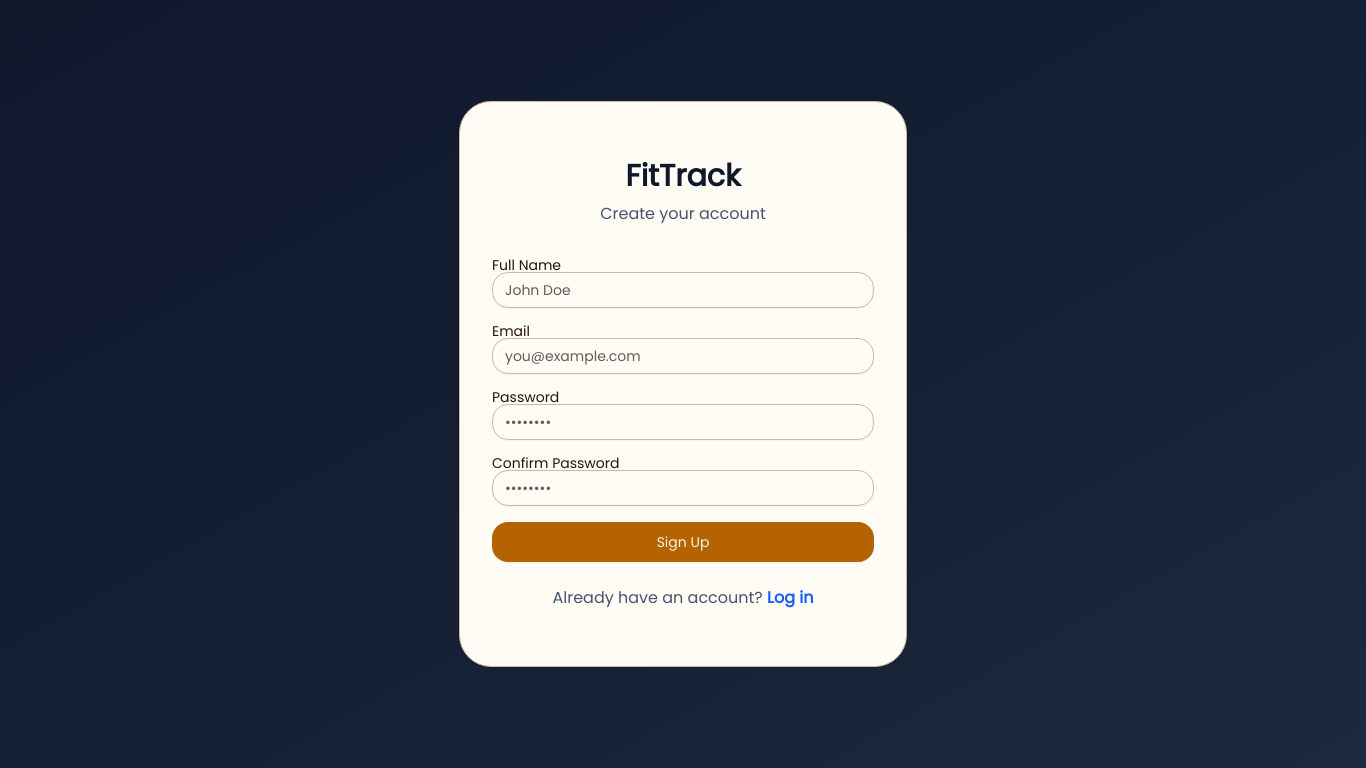
SignupView › displays error when password is too short
In the field labelled "Full Name": (683, 290) 492,272 -> 874,308, type "Test User"
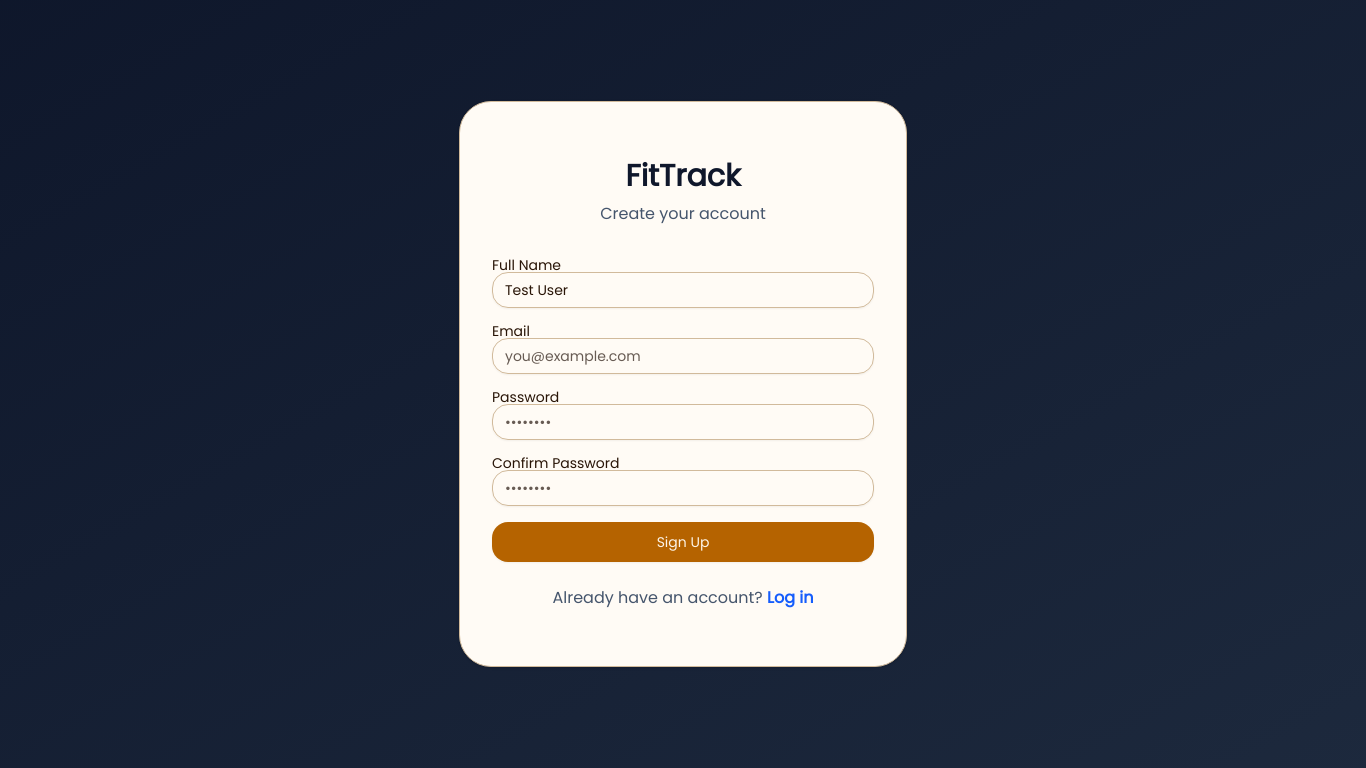
In the field labelled "Email": (683, 356) 492,338 -> 874,374, type "test@example.com"
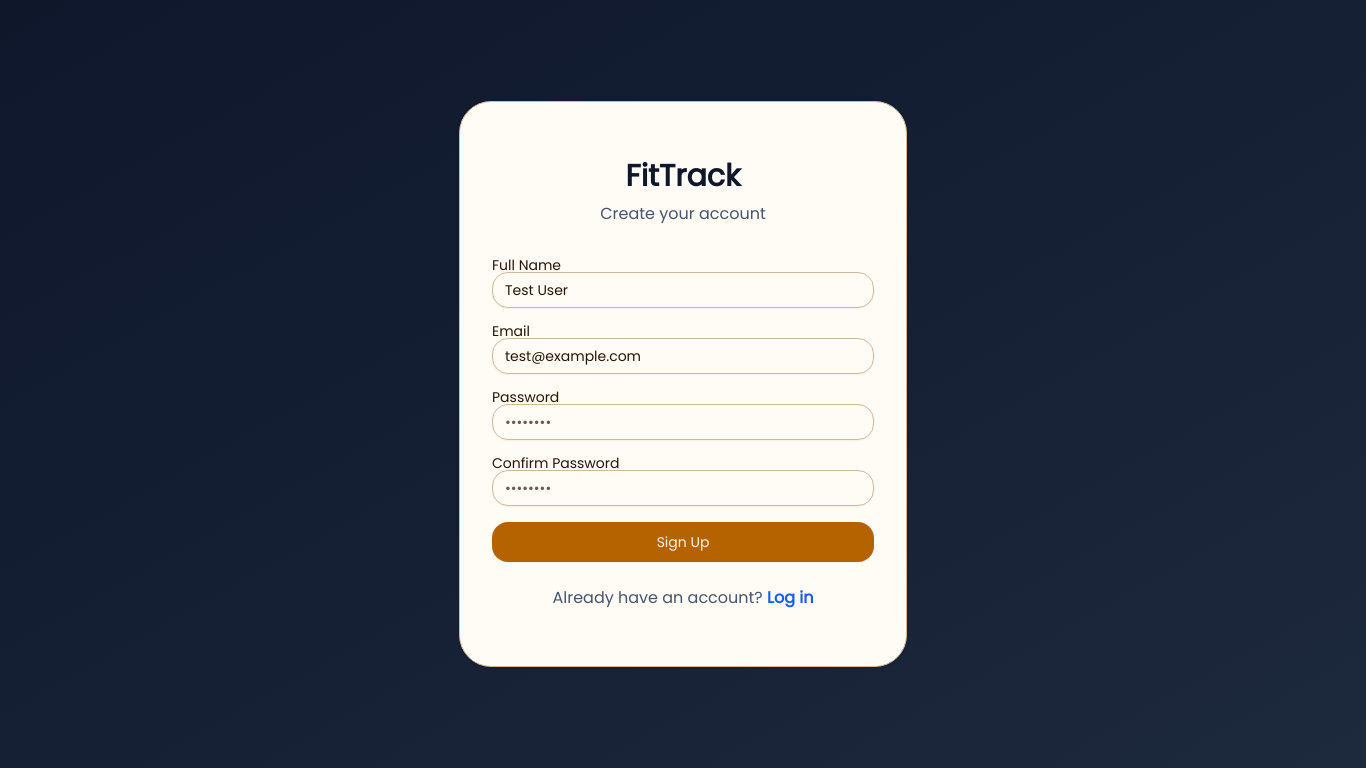
In the password field labelled "Password": (683, 422) 492,404 -> 874,440, type "short"
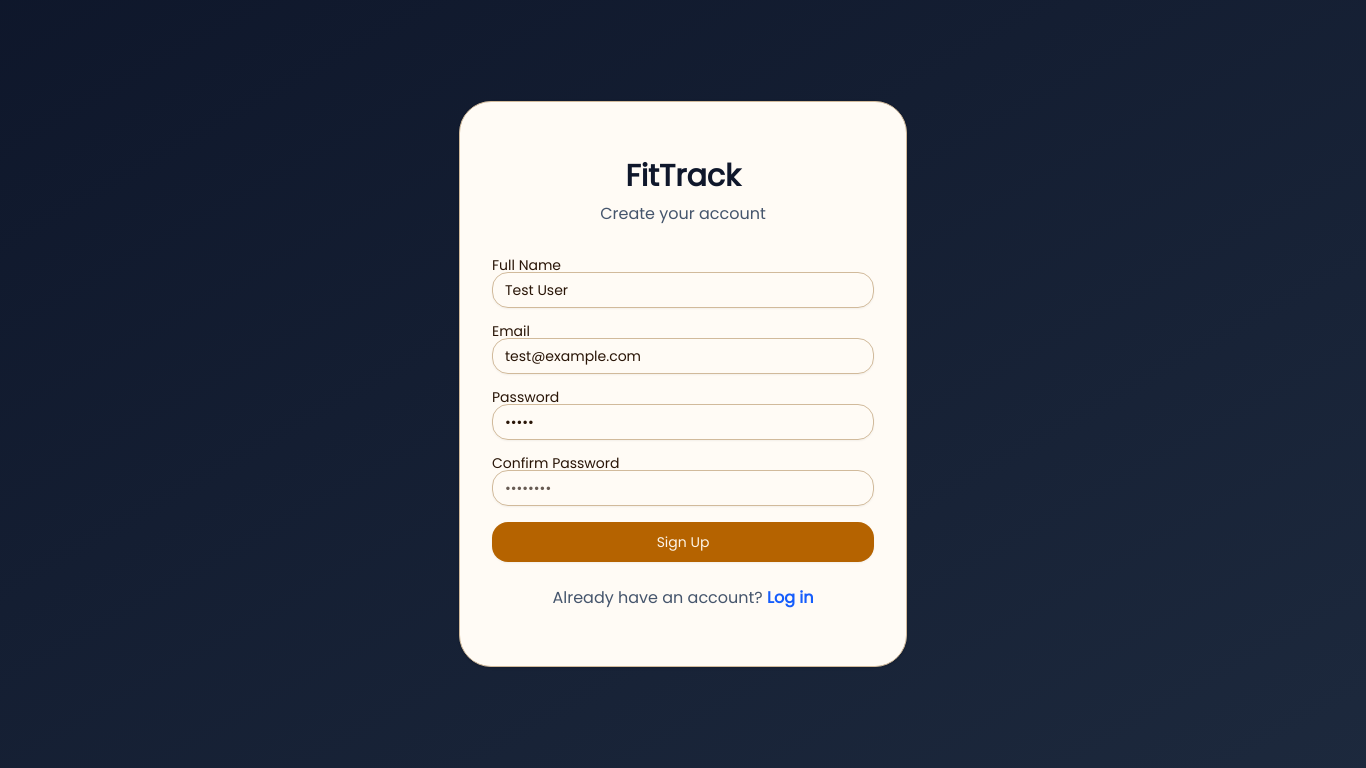
In the password field labelled "Confirm Password": (683, 488) 492,470 -> 874,506, type "short"
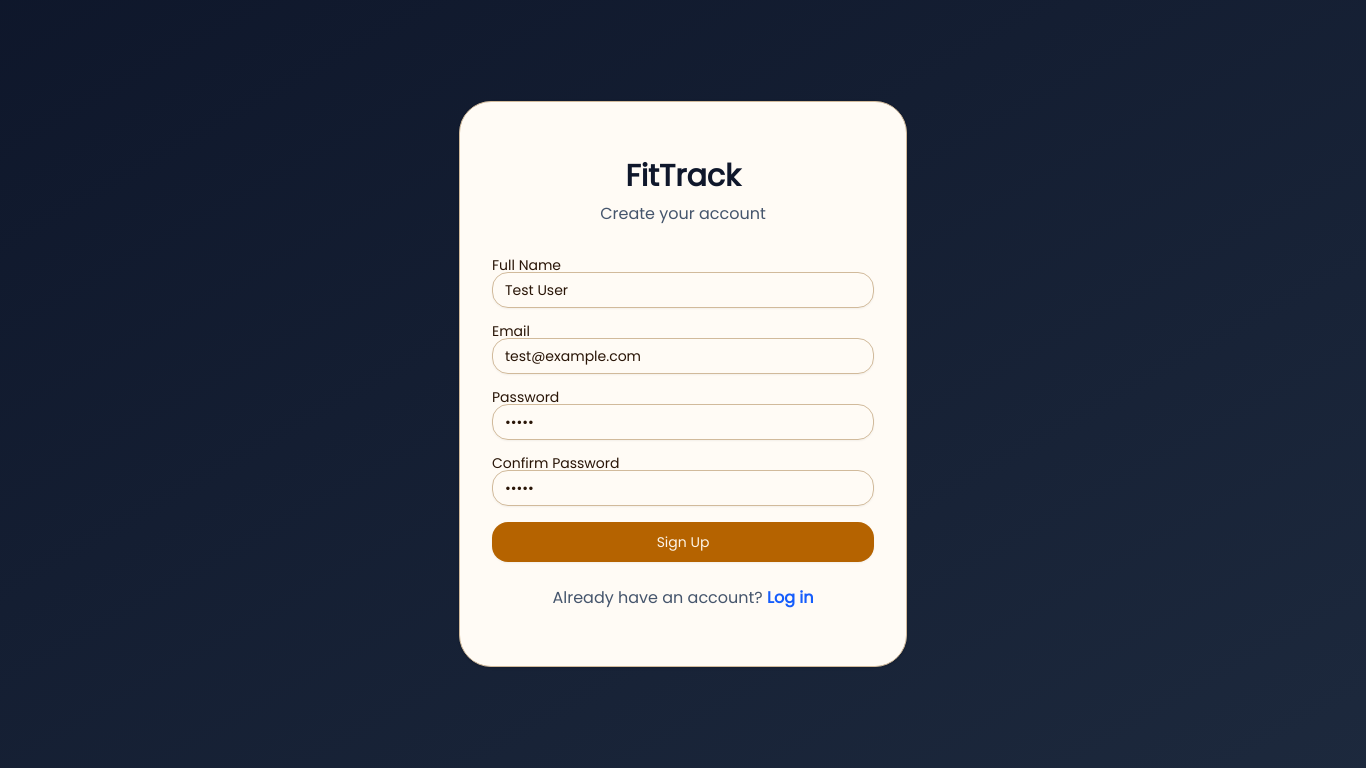
Click the button "Sign Up": (683, 542) 492,522 -> 874,562
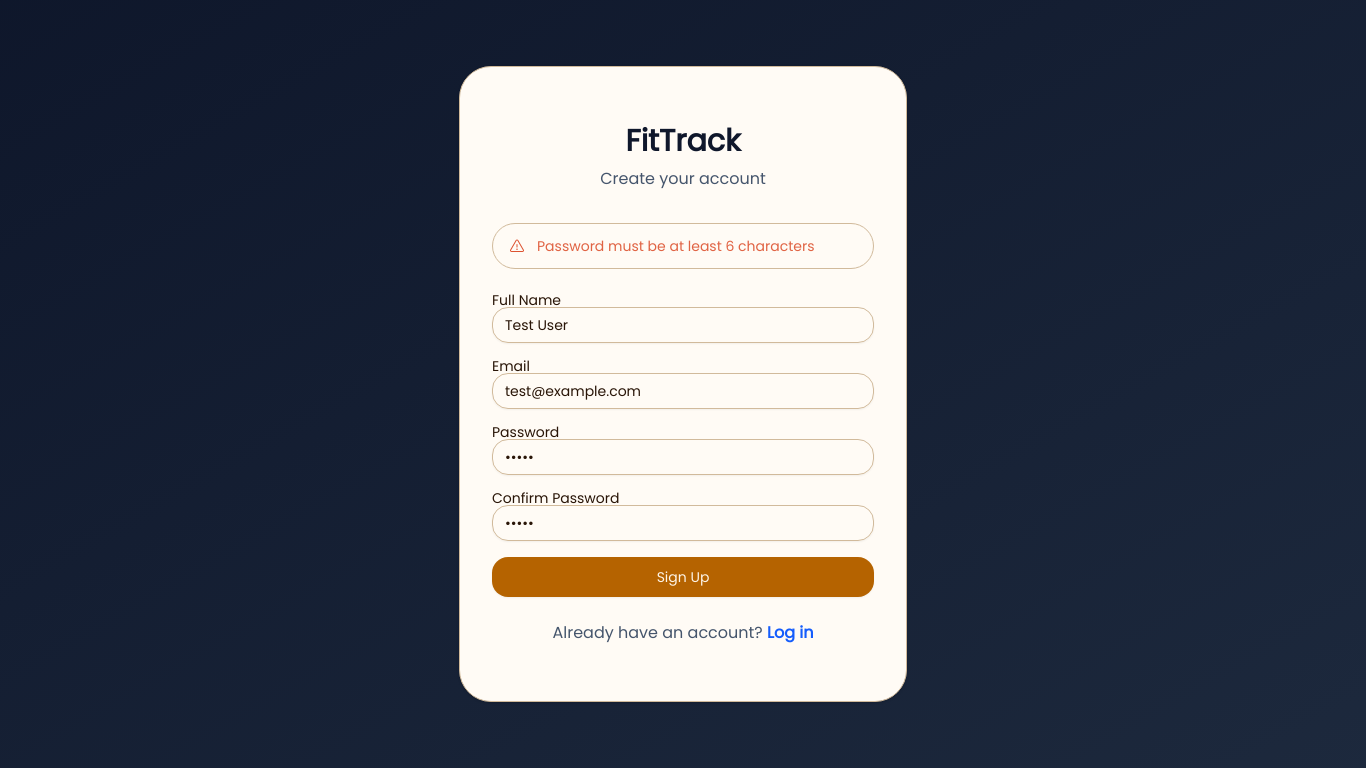
Check: the text "Password must be at least 6 characters" is shown, box 537,236 -> 857,256
